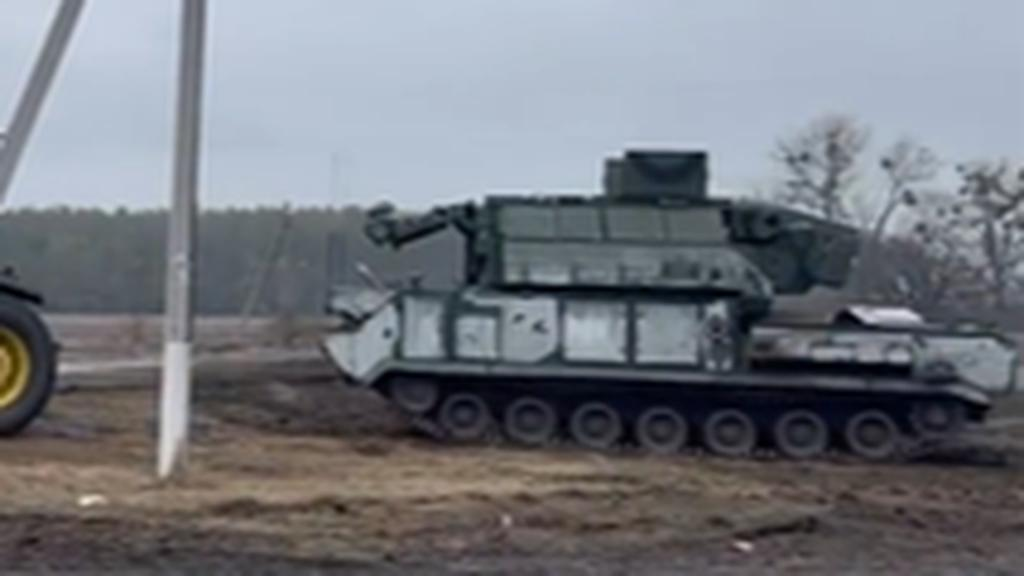MLRS: (314, 140, 1006, 458)
